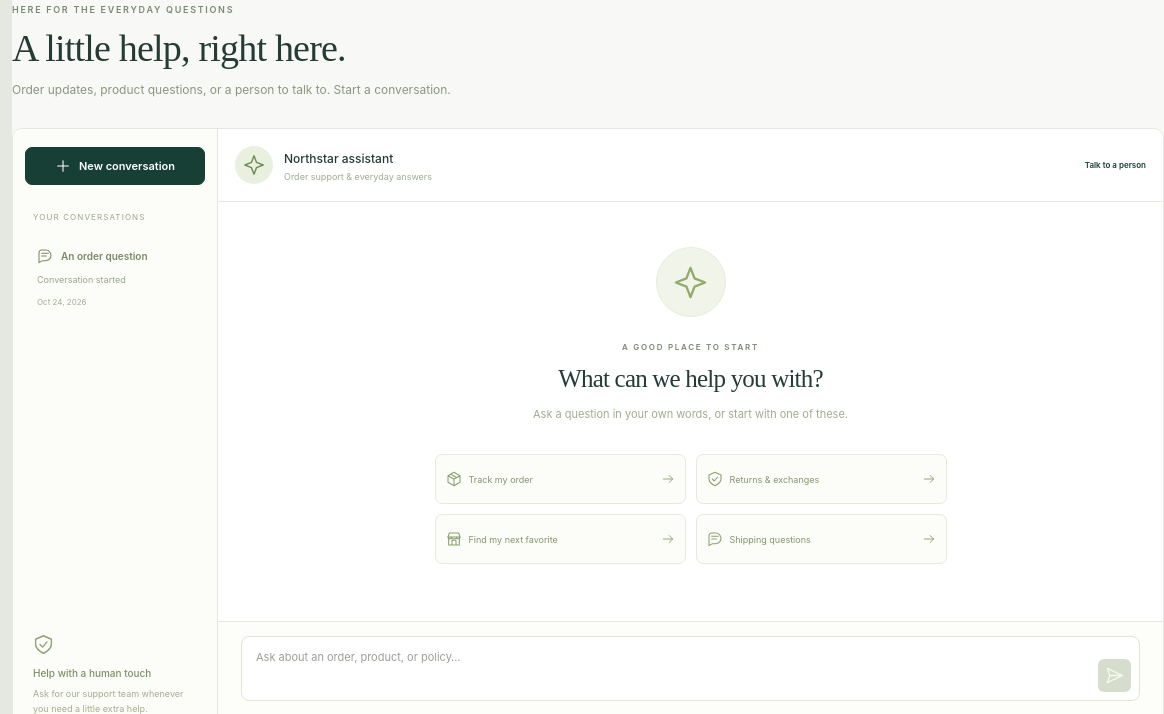
customer conversation polling › stops polling after a terminal HTTP 401 response
Click the button "An order question Conversation started Oct 24, 2026". click: (115, 277)
box: x1=25 y1=234 x2=205 y2=321
Wait 20000 ms
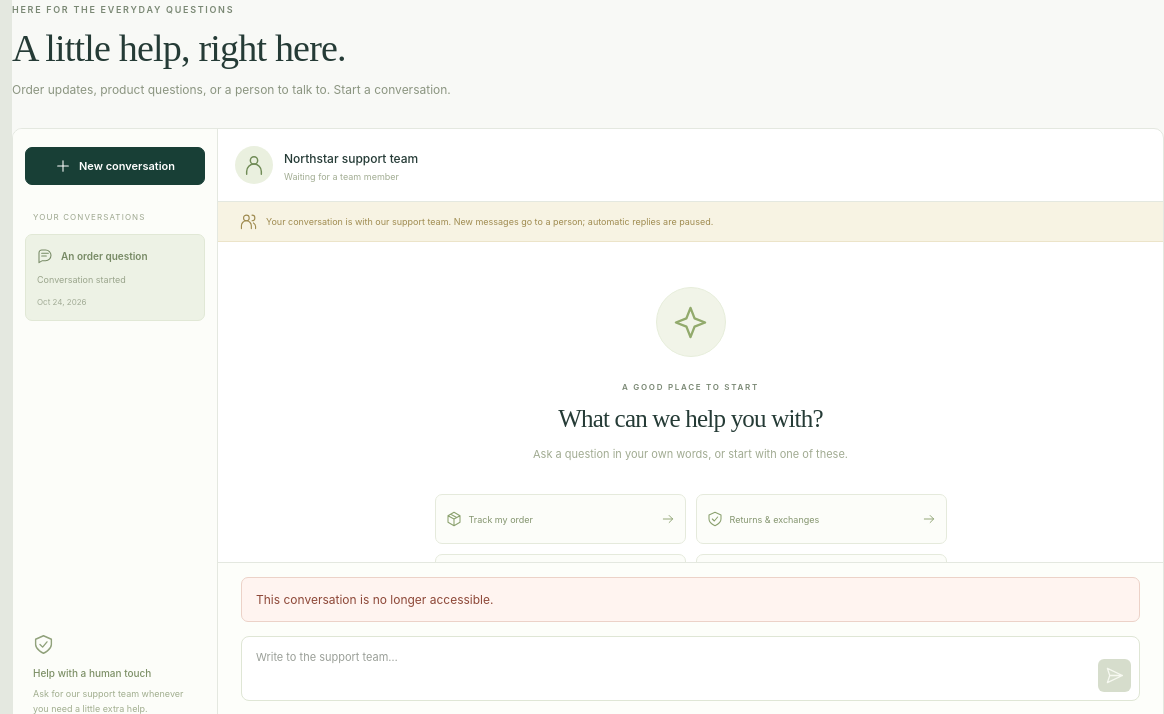
Check: the text "automatic replies are paused" is shown, box x1=425 y1=216 x2=713 y2=227
Check: the message shows "no longer accessible", box x1=256 y1=592 x2=494 y2=606
